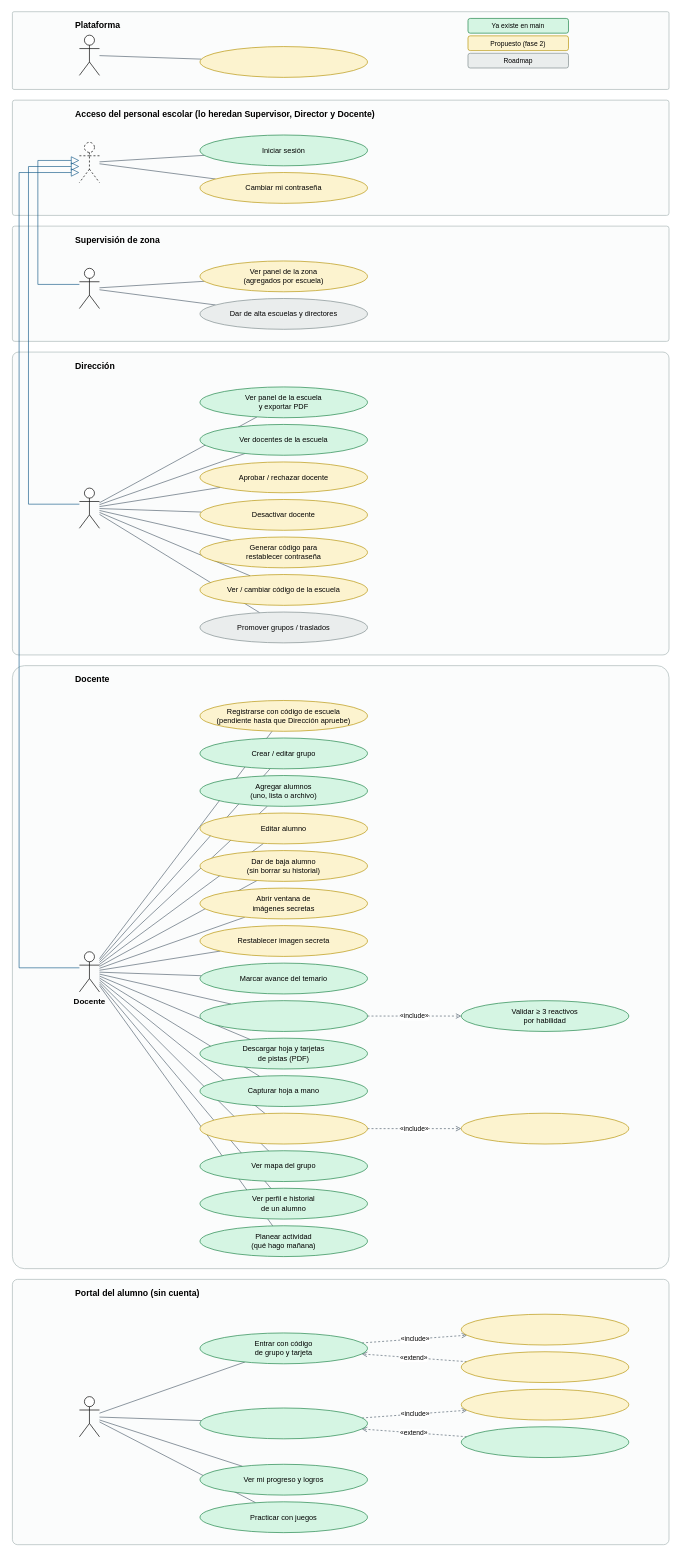
This 681x1556 diagram has some shape labels left out. The centre of each missing label's shape, as x and y in pixels:
Alumno: (89,1416)
Asignar prueba (pantalla o papel): (283,1015)
Confirmar imagen secreta: (545,1329)
Crear zona, escuela (CCT) y director (seed / script): (283,61)
Director: (89,507)
Elegir imagen secreta (primera vez): (545,1367)
Equipo Axi: (89,55)
Escanear hoja con la cámara del celular: (283,1128)
Pedir pista (3 niveles): (545,1442)
Personal escolar: (89,162)
Resolver prueba (un reactivo a la vez): (283,1423)
Revisar y confirmar respuestas leídas: (545,1128)
Supervisor de zona: (89,288)
Ver gráfico del reactivo: (545,1404)
